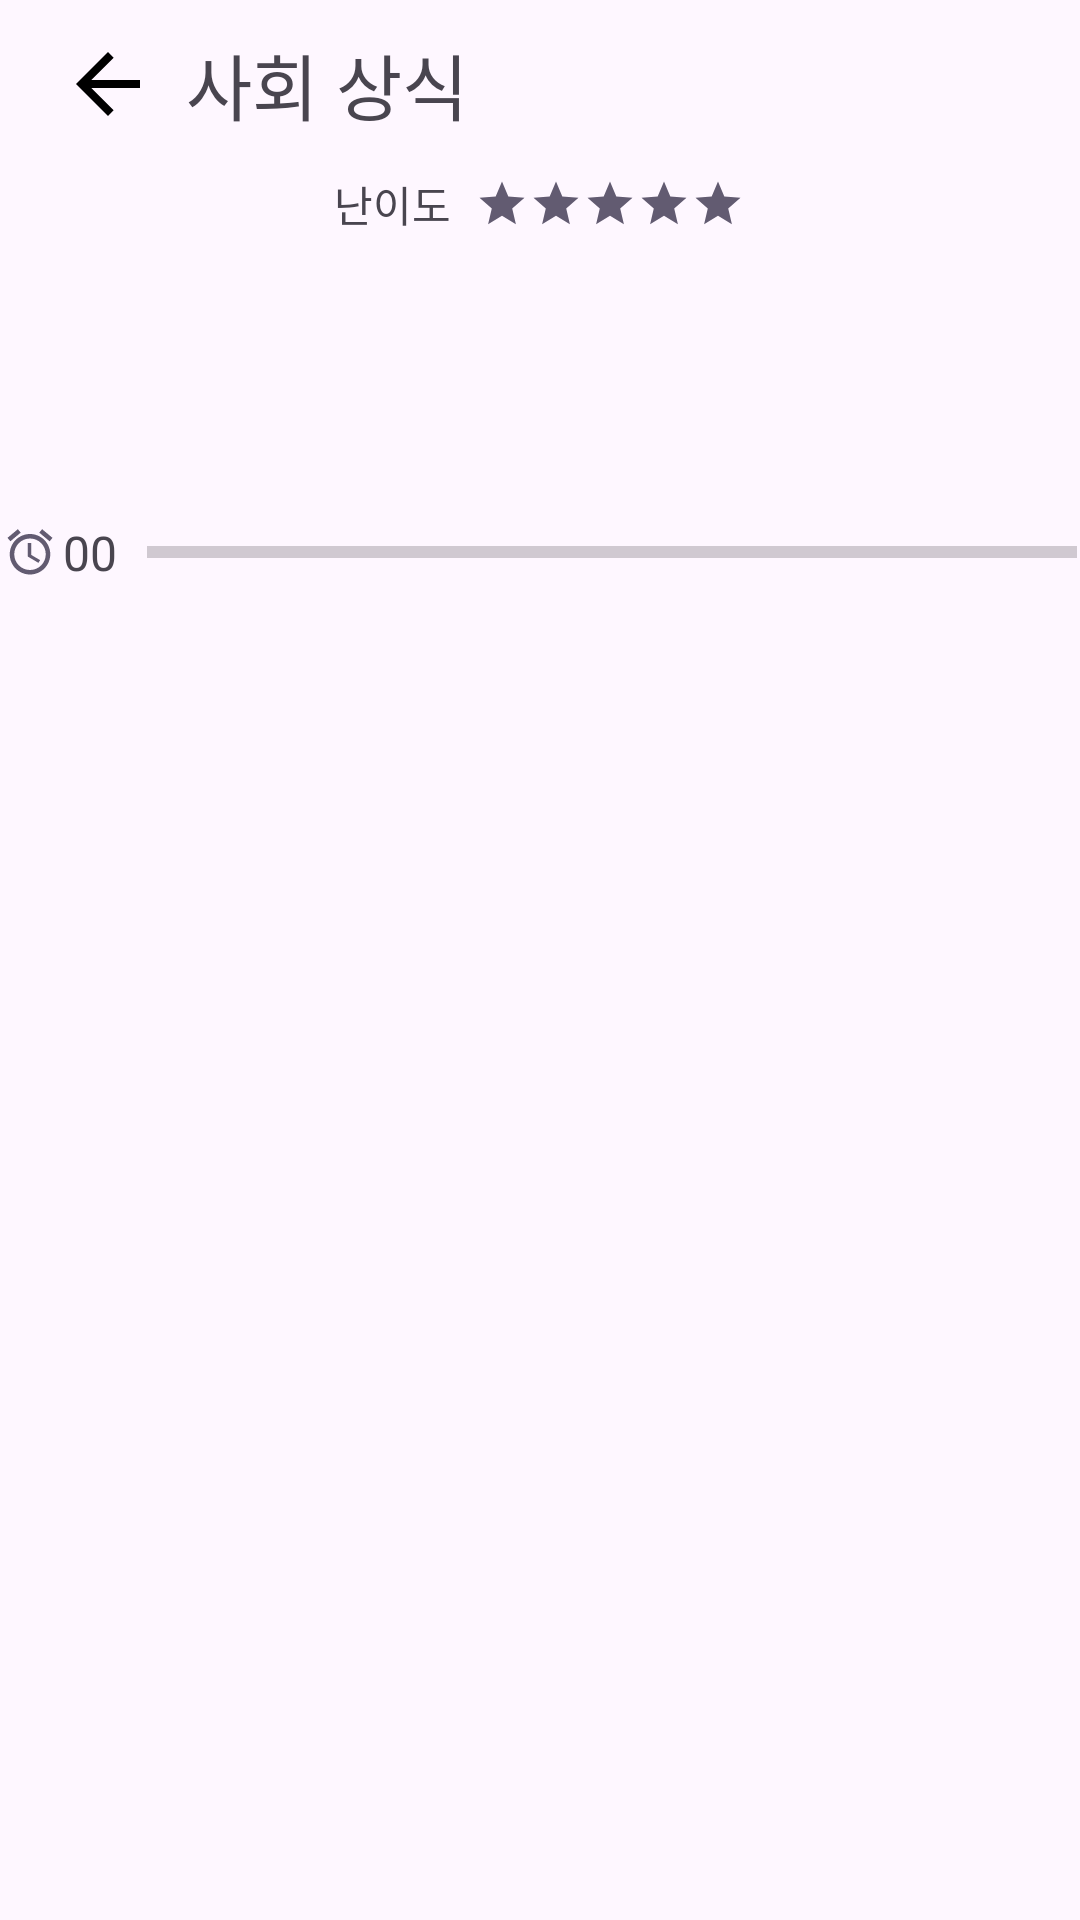

Icons on this 1080w x 1920h Android screen, each with the point to tap as (x=x, y=y):
alarm: (x=30, y=552)
arrow back: (x=108, y=84)
level star: (x=502, y=203), (x=556, y=203), (x=610, y=203), (x=664, y=203), (x=718, y=203)
